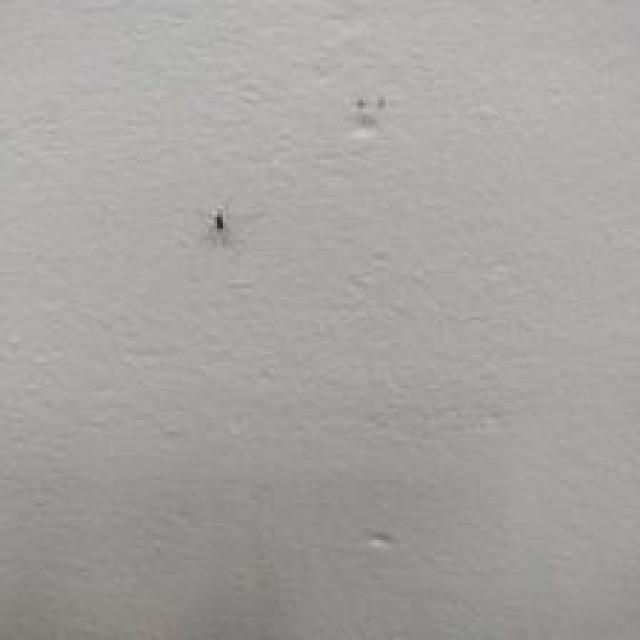Culex: (211, 208, 226, 232)
